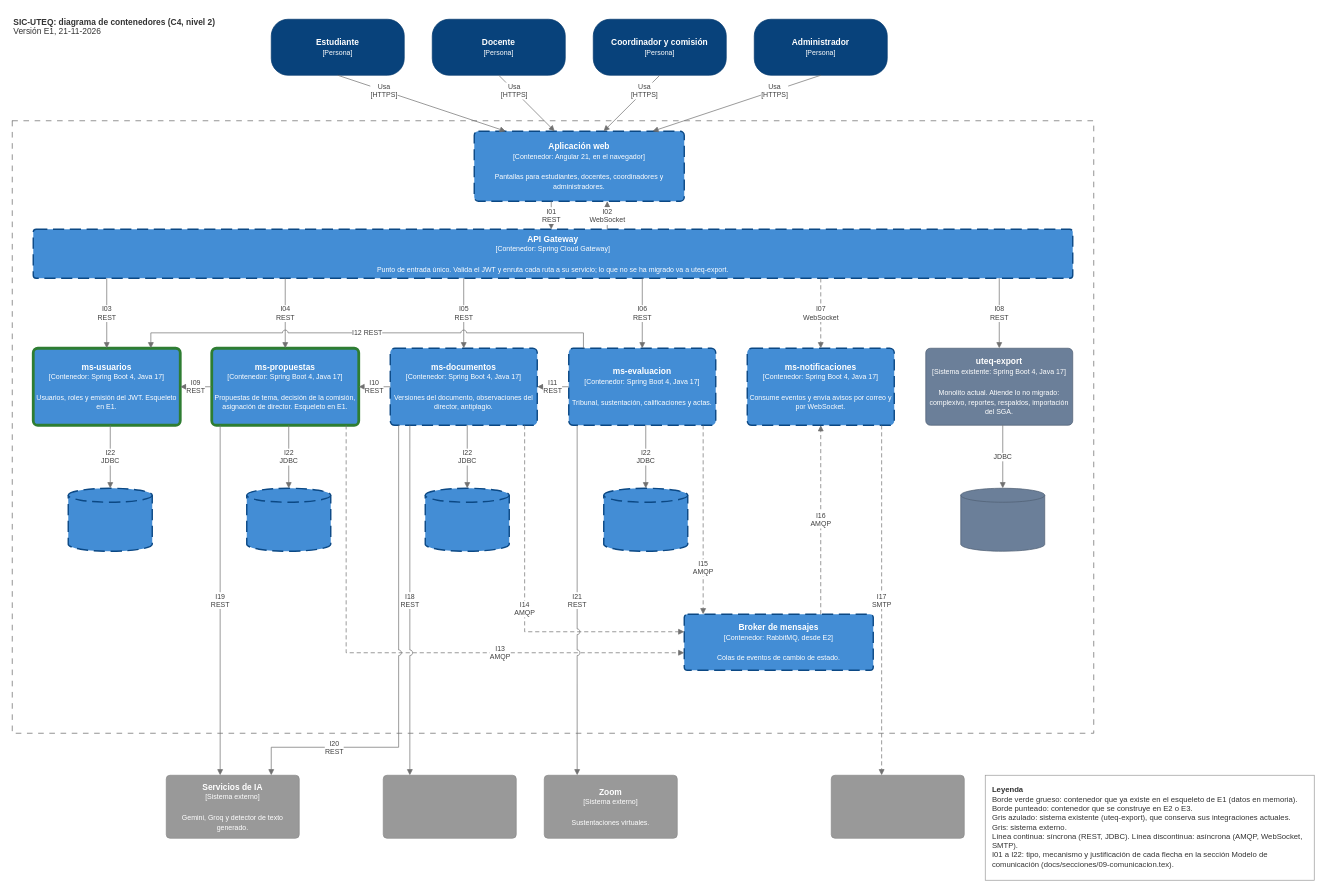
This 1327x893 diagram has some shape labels left out. Here are the shapes that lost their labels. From the top down, the box of each, then its label:
(12, 120, 1094, 733): SIC-UTEQ [Sistema de software]
(67, 487, 153, 552): BD usuarios [PostgreSQL, desde E3]
(246, 487, 331, 552): BD propuestas [PostgreSQL, desde E3]
(424, 487, 510, 552): BD documentos [PostgreSQL, desde E3]
(603, 487, 688, 552): BD evaluación [PostgreSQL, desde E3]
(960, 488, 1045, 551): BD actual [PostgreSQL]
(383, 775, 516, 838): Google Drive [Sistema externo] Archivos de los documentos.
(831, 775, 964, 838): Servidor de correo [Sistema externo] Correo institucional.
